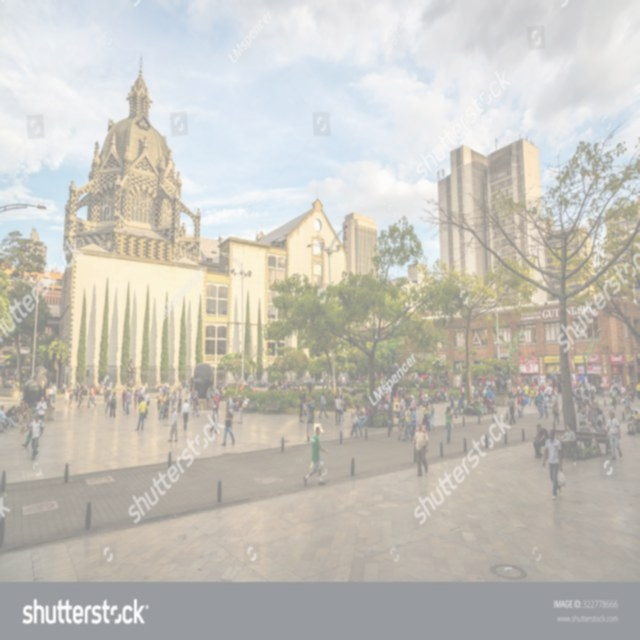pessoa: (246, 374, 354, 393), (302, 424, 330, 486), (542, 428, 564, 501), (22, 412, 45, 460), (412, 418, 430, 479), (605, 408, 624, 461), (355, 373, 450, 383), (570, 378, 590, 418), (21, 407, 38, 449), (532, 422, 550, 461), (220, 404, 236, 447), (560, 422, 577, 460), (578, 416, 594, 452), (35, 396, 48, 434), (472, 376, 504, 391), (402, 403, 414, 442), (135, 396, 148, 432), (0, 403, 18, 429), (166, 405, 178, 442), (590, 397, 602, 433), (358, 402, 374, 429), (394, 405, 406, 440), (351, 404, 364, 436), (444, 405, 454, 444), (317, 390, 330, 420), (180, 398, 192, 430), (626, 408, 640, 435), (348, 404, 359, 438), (209, 400, 219, 436), (374, 385, 398, 400), (124, 355, 136, 385), (507, 394, 517, 426), (428, 401, 438, 433), (421, 400, 431, 432), (18, 398, 29, 427), (628, 378, 640, 404), (550, 398, 560, 426), (190, 390, 200, 418), (86, 384, 97, 409), (334, 392, 342, 426), (518, 392, 528, 419), (409, 407, 417, 440), (157, 391, 166, 420), (416, 386, 426, 412), (449, 392, 458, 420), (536, 388, 544, 418), (476, 390, 484, 420), (236, 394, 244, 424), (124, 386, 132, 416), (210, 383, 226, 398), (212, 392, 220, 420), (542, 392, 550, 419), (175, 386, 183, 413), (109, 391, 117, 418), (102, 390, 111, 414), (308, 394, 315, 424), (394, 402, 402, 428), (170, 388, 178, 414), (610, 386, 618, 411), (5, 405, 16, 423), (622, 390, 630, 414), (340, 391, 346, 423), (156, 387, 164, 411), (438, 383, 448, 402), (472, 393, 480, 416), (66, 388, 74, 411), (595, 419, 607, 434), (164, 390, 170, 420), (12, 404, 22, 422), (528, 385, 536, 407), (466, 396, 474, 418), (102, 380, 110, 402), (46, 384, 54, 406), (434, 387, 444, 404), (242, 393, 250, 414), (132, 389, 140, 410), (120, 388, 127, 412), (511, 382, 522, 397), (180, 377, 188, 397), (298, 396, 304, 422), (301, 389, 307, 415), (306, 393, 312, 419), (523, 382, 530, 404), (136, 390, 143, 412), (539, 380, 546, 400), (334, 390, 340, 413), (90, 383, 96, 406), (400, 394, 405, 421), (78, 382, 85, 401), (228, 394, 234, 416), (76, 388, 82, 410), (51, 382, 57, 403), (548, 383, 554, 403), (75, 382, 81, 402), (398, 384, 412, 392), (554, 382, 559, 404), (598, 380, 604, 398), (144, 388, 150, 406), (138, 384, 144, 402), (140, 383, 146, 401), (64, 386, 70, 404), (546, 384, 551, 404), (162, 392, 166, 417), (160, 380, 170, 390), (610, 381, 616, 397), (206, 386, 210, 410), (423, 390, 431, 402), (189, 392, 194, 410), (616, 381, 621, 398), (99, 379, 104, 396), (457, 394, 464, 406), (590, 382, 594, 400), (444, 384, 448, 402), (84, 384, 90, 396), (614, 380, 619, 394), (383, 400, 390, 410), (377, 400, 384, 410), (302, 400, 307, 414), (0, 418, 5, 432), (428, 380, 433, 392), (61, 382, 66, 394), (129, 384, 134, 394)
